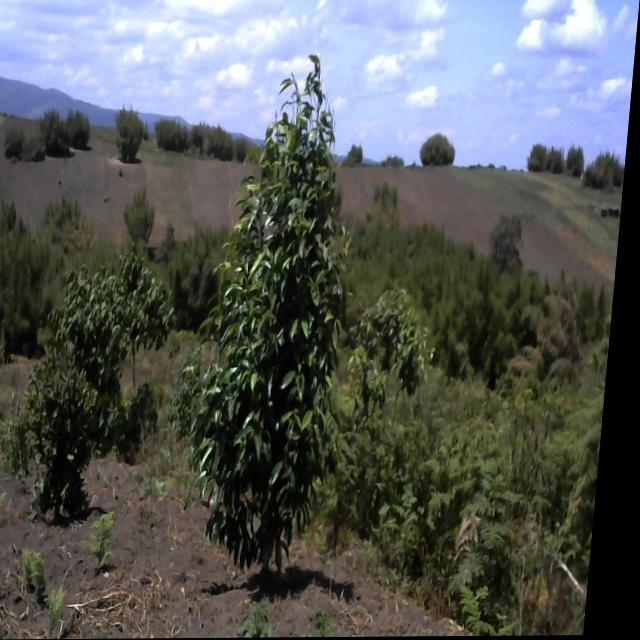Hass Avocado: (184, 42, 380, 575)
Syzygium gineense: (3, 348, 113, 520)
other: (52, 254, 187, 374), (357, 281, 446, 409)
